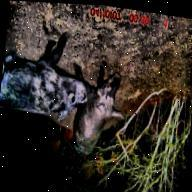boar: (57, 45, 145, 174), (0, 11, 94, 127)
